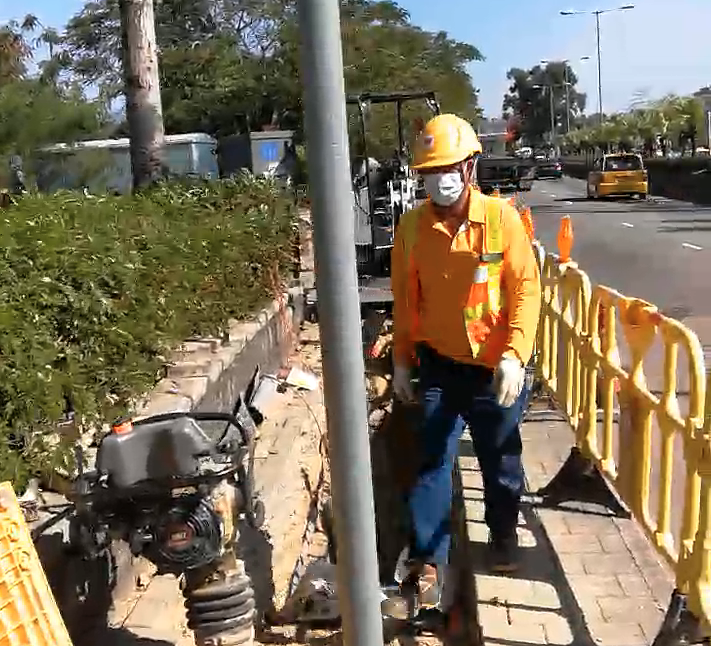Hard Hat: (406, 115, 482, 209)
Person: (396, 116, 540, 604)
Vest: (389, 172, 538, 389)
